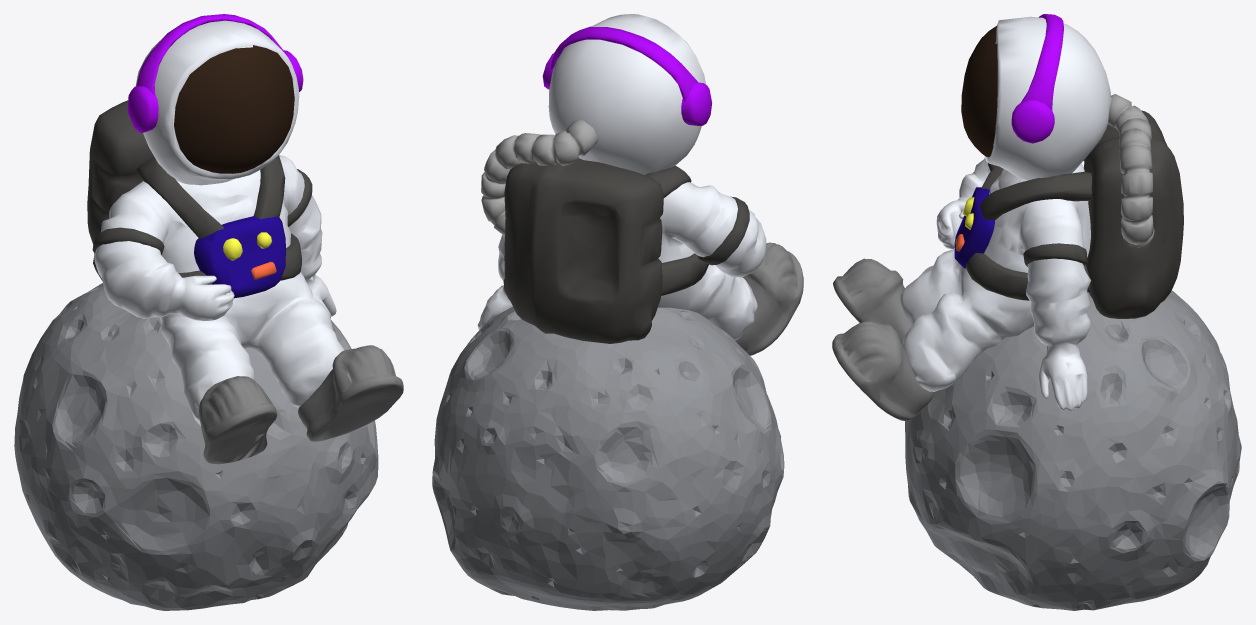
Rendered from astronautMatOnly.glb.
3 views of the same model, side by side, from view 1: azimuth 30°, elevation 25°; view 2: azimuth 150°, elevation 25°; view 3: azimuth 270°, elevation 25° (orthographic). The views are drawn at different scales.
Parts seen in each view (by area): view 1: uploads_files_2961386_astronaut_fix_high, uploads_files_2961386_astronaut_fix_high.001, uploads_files_2961386_astronaut_fix_high.020, uploads_files_2961386_astronaut_fix_high.018, uploads_files_2961386_astronaut_fix_high.004, uploads_files_2961386_astronaut_fix_high.010, uploads_files_2961386_astronaut_fix_high.009, uploads_files_2961386_astronaut_fix_high.002, uploads_files_2961386_astronaut_fix_high.008; view 2: uploads_files_2961386_astronaut_fix_high, uploads_files_2961386_astronaut_fix_high.001, uploads_files_2961386_astronaut_fix_high.010, uploads_files_2961386_astronaut_fix_high.011, uploads_files_2961386_astronaut_fix_high.018, uploads_files_2961386_astronaut_fix_high.002, uploads_files_2961386_astronaut_fix_high.004; view 3: uploads_files_2961386_astronaut_fix_high, uploads_files_2961386_astronaut_fix_high.001, uploads_files_2961386_astronaut_fix_high.010, uploads_files_2961386_astronaut_fix_high.018, uploads_files_2961386_astronaut_fix_high.004, uploads_files_2961386_astronaut_fix_high.011, uploads_files_2961386_astronaut_fix_high.020, uploads_files_2961386_astronaut_fix_high.002, uploads_files_2961386_astronaut_fix_high.009.
Part boxes in pixels (left/top/right/bottom): uploads_files_2961386_astronaut_fix_high: left=14, top=283, right=378, bottom=610; uploads_files_2961386_astronaut_fix_high.001: left=94, top=20, right=344, bottom=425; uploads_files_2961386_astronaut_fix_high.020: left=174, top=45, right=294, bottom=173; uploads_files_2961386_astronaut_fix_high.018: left=198, top=345, right=403, bottom=464; uploads_files_2961386_astronaut_fix_high.004: left=92, top=155, right=312, bottom=284; uploads_files_2961386_astronaut_fix_high.010: left=87, top=100, right=154, bottom=280; uploads_files_2961386_astronaut_fix_high.009: left=194, top=216, right=285, bottom=298; uploads_files_2961386_astronaut_fix_high.002: left=127, top=14, right=303, bottom=132; uploads_files_2961386_astronaut_fix_high.008: left=223, top=232, right=272, bottom=260; uploads_files_2961386_astronaut_fix_high: left=432, top=306, right=784, bottom=610; uploads_files_2961386_astronaut_fix_high.001: left=477, top=14, right=766, bottom=340; uploads_files_2961386_astronaut_fix_high.010: left=503, top=158, right=663, bottom=343; uploads_files_2961386_astronaut_fix_high.011: left=481, top=119, right=598, bottom=234; uploads_files_2961386_astronaut_fix_high.018: left=735, top=242, right=803, bottom=355; uploads_files_2961386_astronaut_fix_high.002: left=542, top=26, right=711, bottom=125; uploads_files_2961386_astronaut_fix_high.004: left=645, top=165, right=749, bottom=295; uploads_files_2961386_astronaut_fix_high: left=905, top=290, right=1241, bottom=610; uploads_files_2961386_astronaut_fix_high.001: left=900, top=16, right=1110, bottom=410; uploads_files_2961386_astronaut_fix_high.010: left=1084, top=110, right=1183, bottom=318; uploads_files_2961386_astronaut_fix_high.018: left=832, top=258, right=934, bottom=421; uploads_files_2961386_astronaut_fix_high.004: left=966, top=159, right=1091, bottom=300; uploads_files_2961386_astronaut_fix_high.011: left=1107, top=94, right=1154, bottom=247; uploads_files_2961386_astronaut_fix_high.020: left=961, top=26, right=997, bottom=157; uploads_files_2961386_astronaut_fix_high.002: left=1011, top=14, right=1063, bottom=143; uploads_files_2961386_astronaut_fix_high.009: left=954, top=187, right=994, bottom=268.
Size of the model in its own units: 3.03 by 5 by 3.47.
